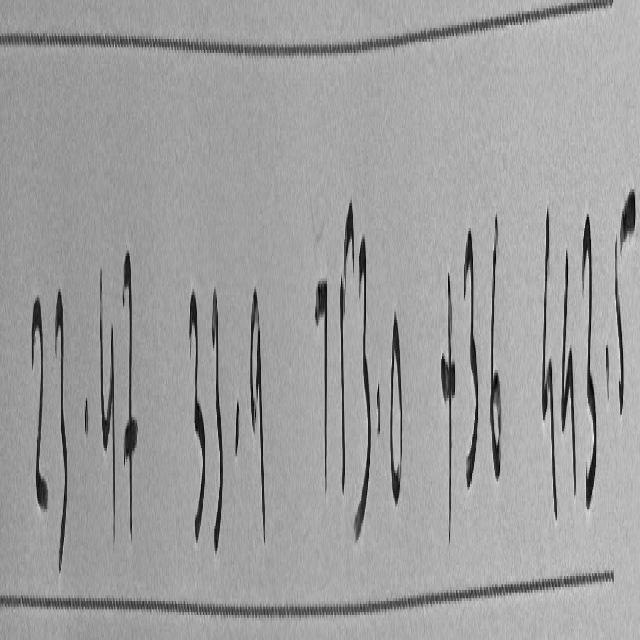Number: (26, 167, 138, 611), (535, 111, 638, 558), (309, 139, 408, 580), (187, 213, 268, 597), (437, 186, 503, 560)
